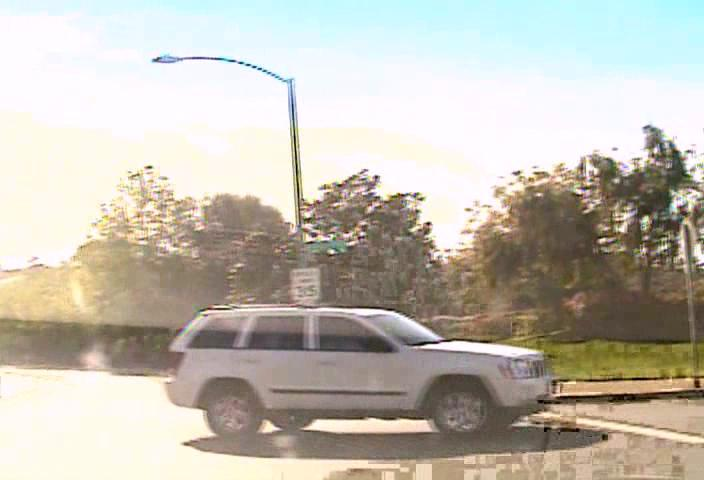speedLimit35: (289, 266, 321, 305)
